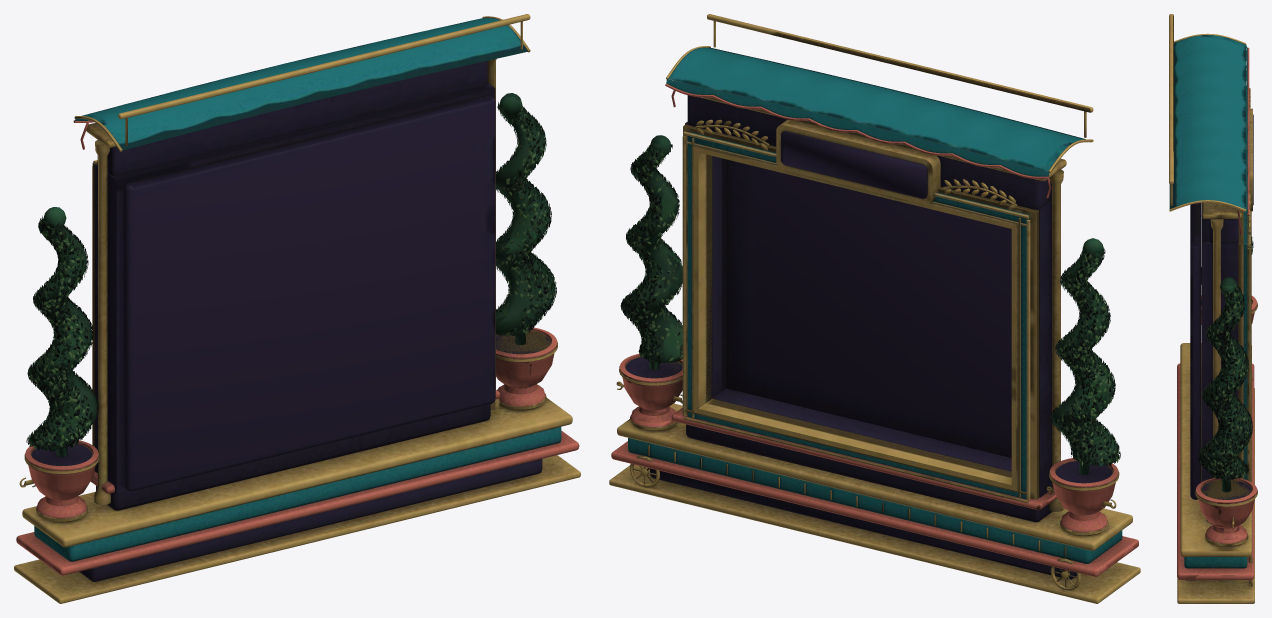
3 views of the same model, side by side, from view 1: azimuth 30°, elevation 25°; view 2: azimuth 150°, elevation 25°; view 3: azimuth 270°, elevation 25° (orthographic). The views are drawn at different scales.
Visible parts, largest first — view 1: Violet_enamel, Exhibition_brass, Woven_teal, Mature_boxwood, Fired_terracotta, Young_boxwood; view 2: Violet_enamel, Exhibition_brass, Woven_teal, Mature_boxwood, Fired_terracotta, Young_boxwood; view 3: Woven_teal, Exhibition_brass, Violet_enamel, Mature_boxwood, Fired_terracotta, Young_boxwood.
Part boxes in pixels (x1=…): Violet_enamel: x1=31, y1=61, x2=550, y2=581; Exhibition_brass: x1=14, y1=14, x2=580, y2=603; Woven_teal: x1=34, y1=18, x2=561, y2=561; Mature_boxwood: x1=26, y1=93, x2=556, y2=457; Fired_terracotta: x1=16, y1=120, x2=579, y2=575; Young_boxwood: x1=28, y1=105, x2=556, y2=449; Violet_enamel: x1=625, y1=95, x2=1112, y2=579; Exhibition_brass: x1=609, y1=14, x2=1140, y2=603; Woven_teal: x1=628, y1=47, x2=1122, y2=563; Mature_boxwood: x1=621, y1=135, x2=1120, y2=474; Fired_terracotta: x1=611, y1=83, x2=1138, y2=576; Young_boxwood: x1=620, y1=145, x2=1120, y2=466; Woven_teal: x1=1169, y1=35, x2=1247, y2=568; Exhibition_brass: x1=1169, y1=14, x2=1257, y2=603; Violet_enamel: x1=1185, y1=114, x2=1253, y2=580; Mature_boxwood: x1=1198, y1=237, x2=1253, y2=492; Fired_terracotta: x1=1177, y1=47, x2=1257, y2=579; Young_boxwood: x1=1200, y1=239, x2=1252, y2=480.
Size of the model in its own units: 10.92 by 9.4 by 1.89.
Materials: 6 (6 with a texture image).
